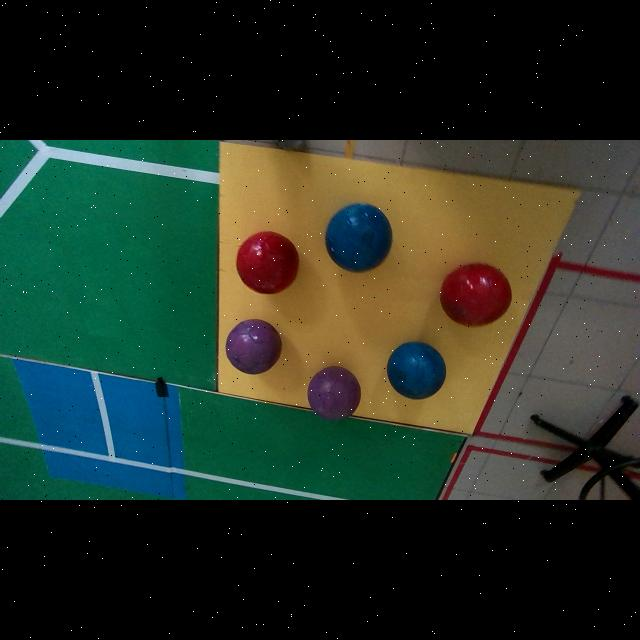B: (325, 204, 392, 272), (388, 342, 446, 400)
P: (226, 320, 281, 375), (308, 366, 361, 421)
R: (440, 264, 511, 326), (236, 232, 299, 294)
